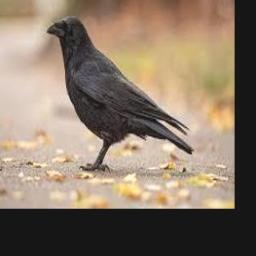Crow: (46, 16, 194, 173)
